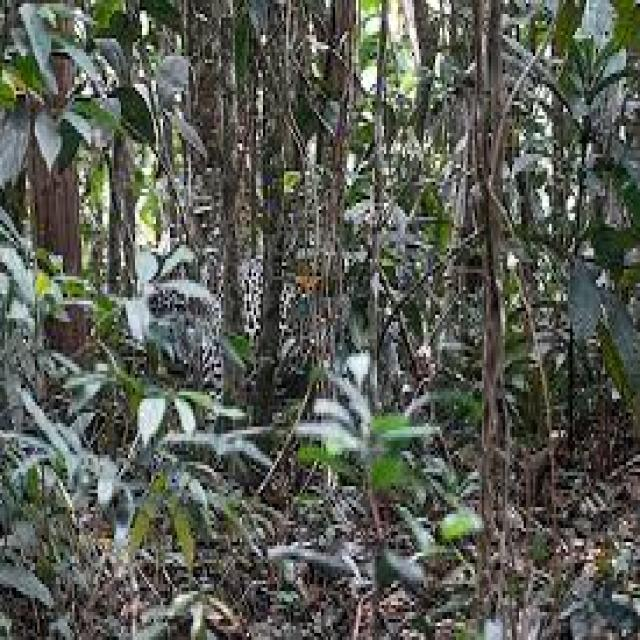Jaguar: (142, 241, 328, 437)
